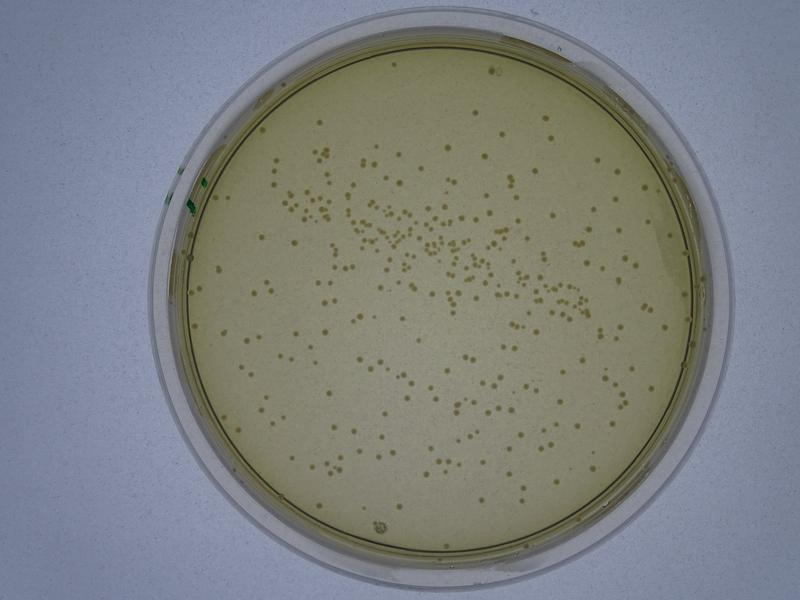colony: (391, 499, 410, 513), (638, 180, 651, 195), (233, 424, 246, 437), (551, 397, 566, 408), (547, 210, 562, 221), (611, 225, 624, 237), (312, 115, 324, 127), (387, 59, 403, 68), (378, 408, 391, 419), (321, 327, 332, 340), (397, 313, 409, 324), (530, 166, 542, 177), (324, 388, 337, 398), (540, 113, 554, 122), (479, 150, 490, 161), (546, 132, 557, 143), (469, 106, 480, 117), (256, 230, 266, 242), (414, 337, 426, 347), (582, 224, 594, 234), (595, 151, 602, 168), (290, 327, 299, 340), (287, 238, 297, 249), (285, 454, 296, 464), (443, 143, 452, 154), (423, 445, 437, 452), (660, 324, 669, 334), (558, 367, 568, 376), (609, 195, 620, 203), (248, 289, 257, 298), (498, 130, 507, 139), (242, 335, 249, 345)
